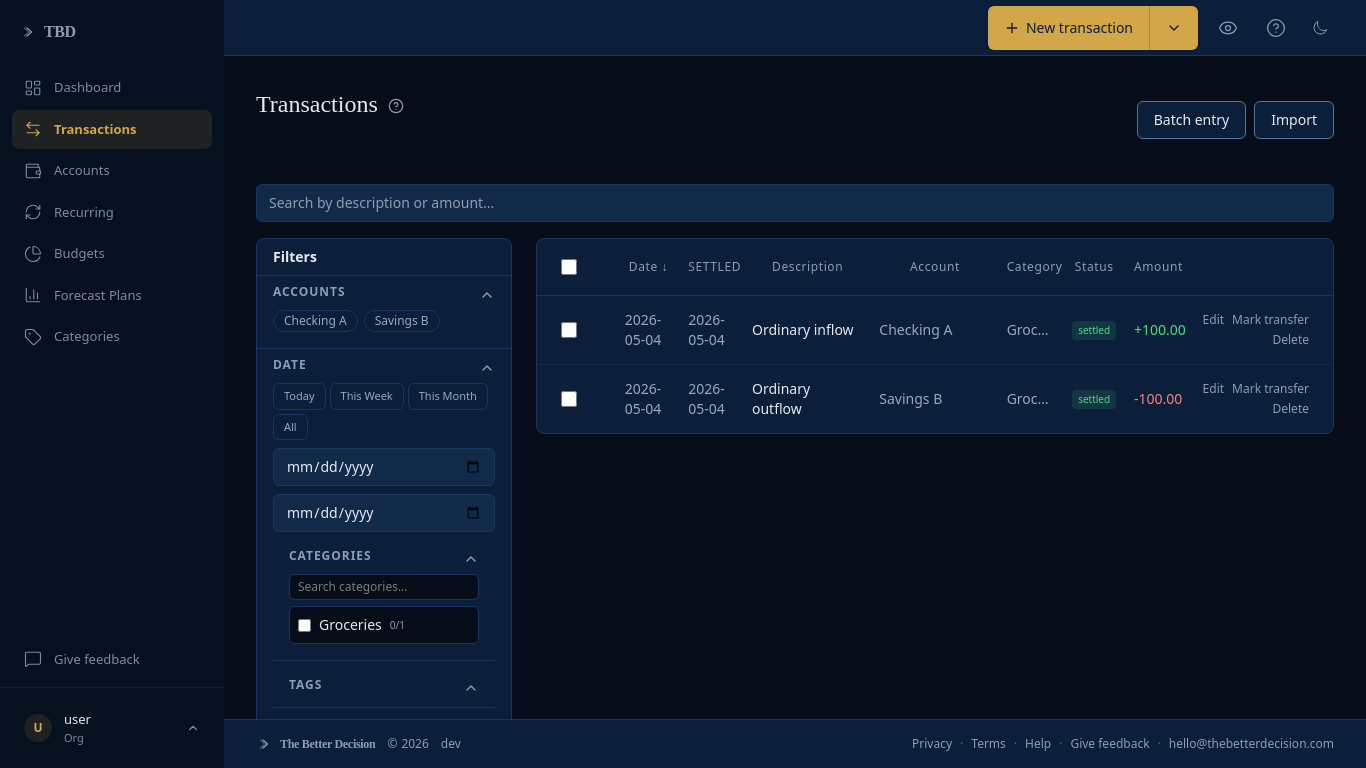
TBD-387 — manual balance adjustment affordances › F7b: bulk Link-as-transfer still enables for a legitimate pair
The image size is (1366, 768).
What coordinates should you click on to do the following:
click the checkbox named "Select transaction 9303"
I would click on:
 (569, 330)
Its box is [561,322,577,338].
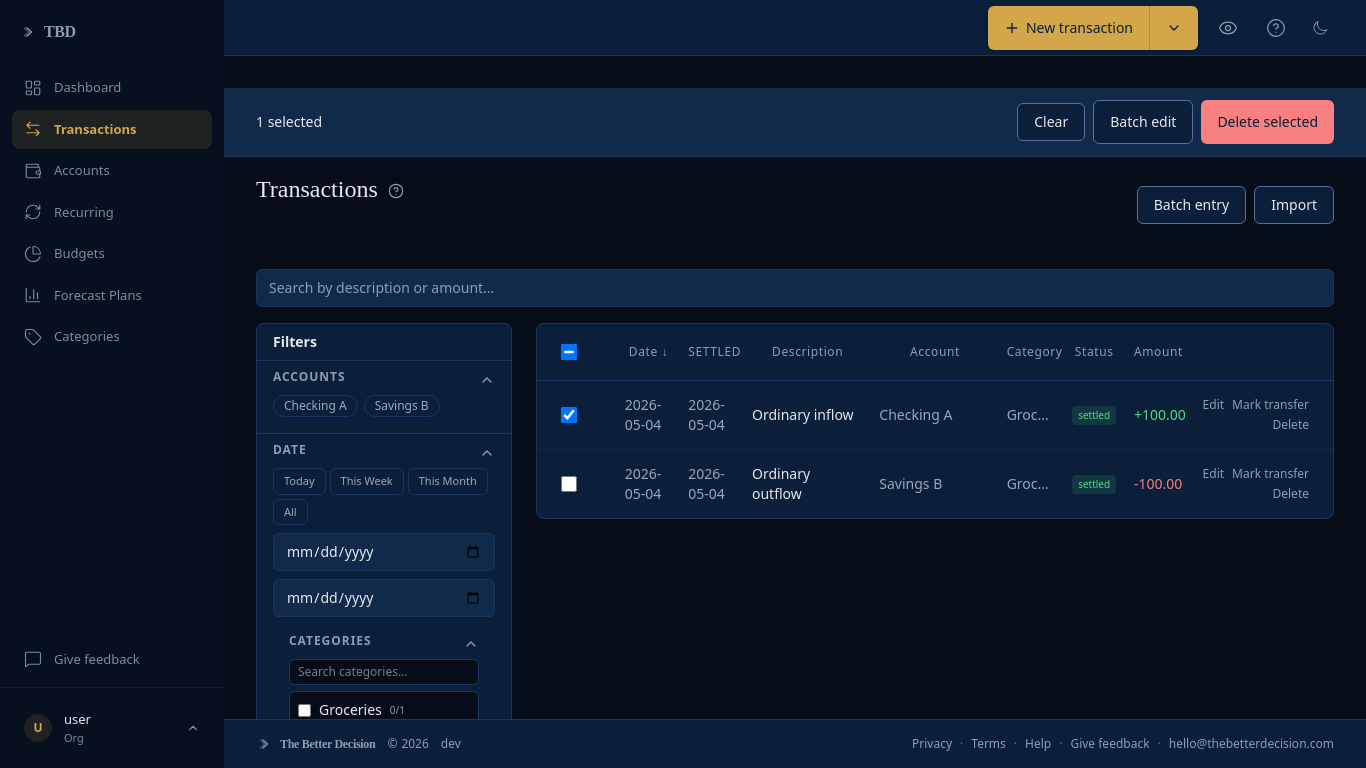
What coordinates should you click on to do the following:
click the checkbox named "Select transaction 9302"
I would click on:
 (569, 484)
Its box is [561,476,577,492].
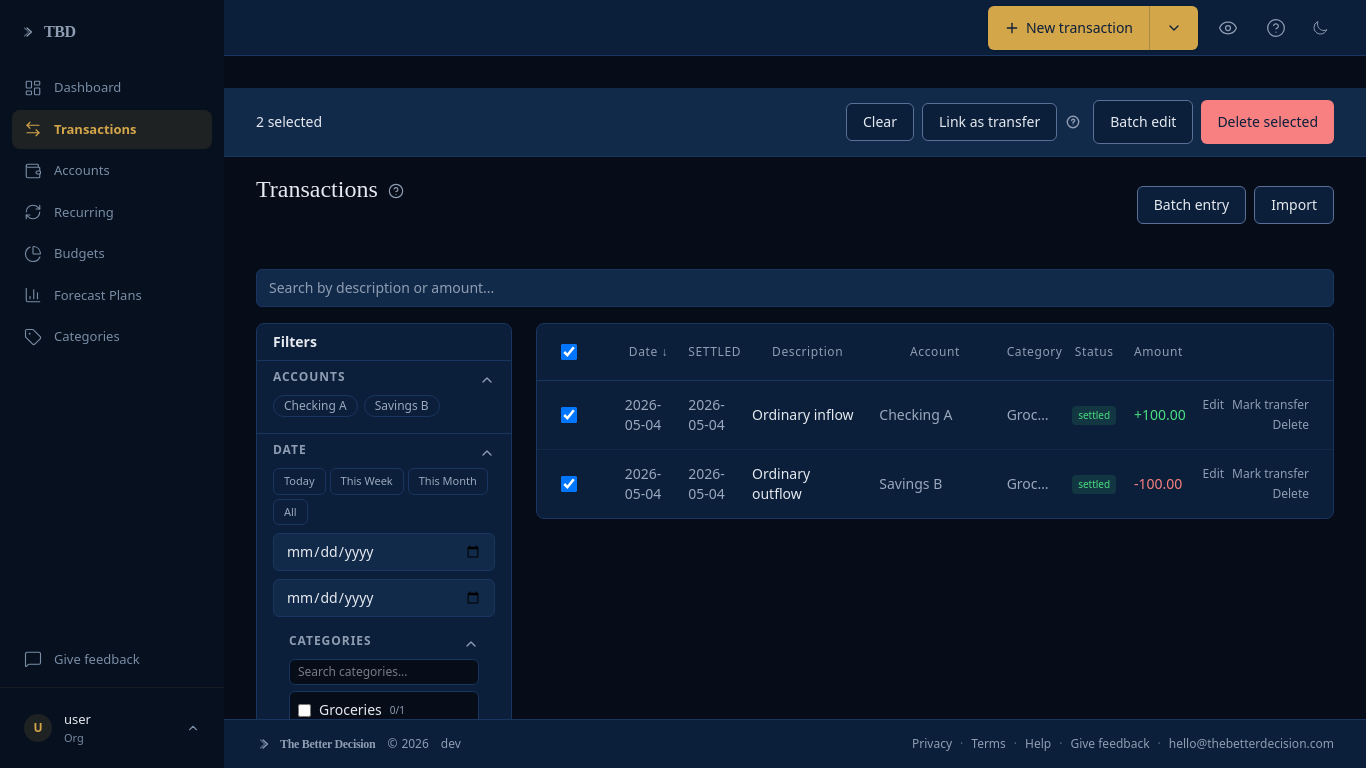
Result: the button "Link as transfer" is enabled at [922,103,1057,141]
